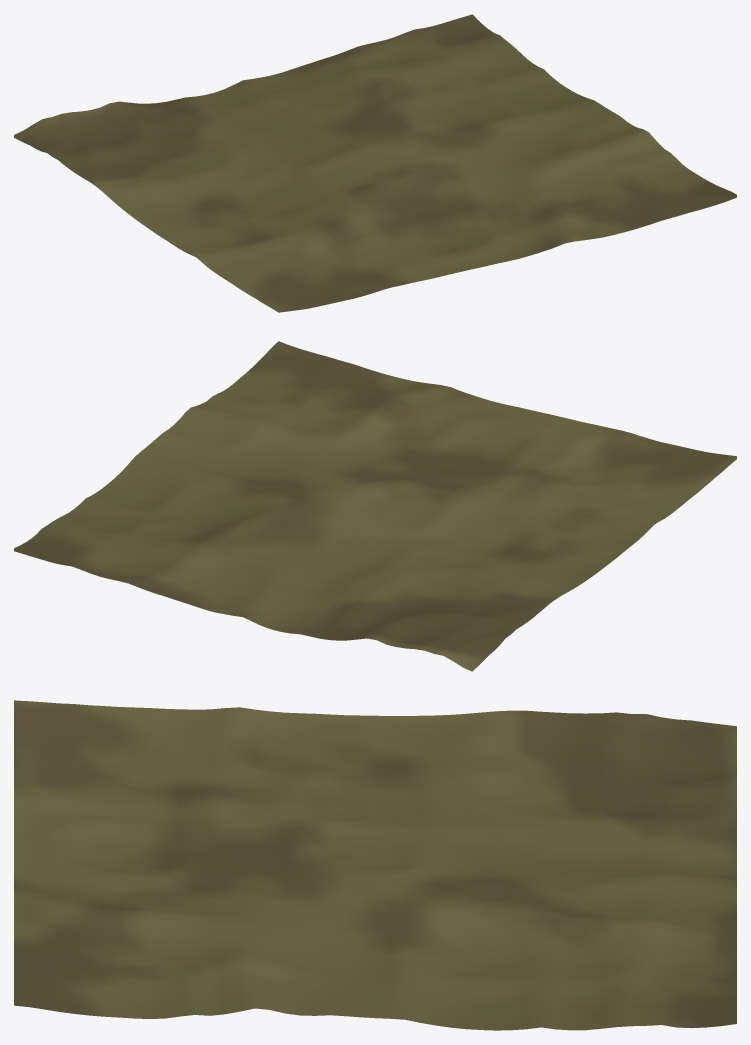
File: land_m_13_09.glb
3 renders of one model, top to bottom at view 1: azimuth 30°, elevation 25°; view 2: azimuth 150°, elevation 25°; view 3: azimuth 270°, elevation 25°, orthographic. The views are drawn at different scales.
Parts seen in each view (by area): view 1: land_m_13_09; view 2: land_m_13_09; view 3: land_m_13_09.
Part boxes in pixels (<box>): land_m_13_09: <box>14,14,736,312</box>; land_m_13_09: <box>14,341,736,671</box>; land_m_13_09: <box>14,700,736,1030</box>.
Size of the model in its own units: 960 by 63.89 by 960.
